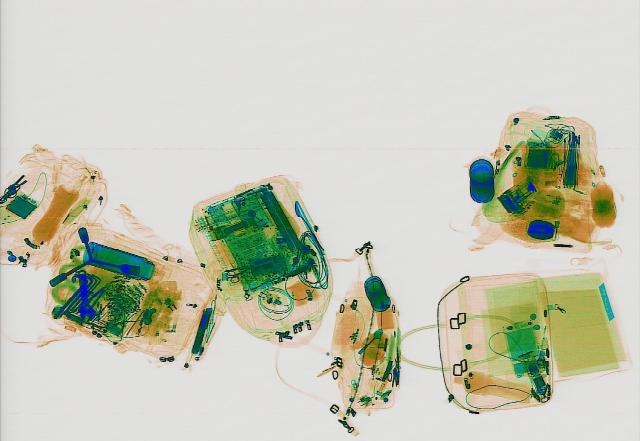Scissors: (220, 262, 258, 282)
Wrench: (70, 268, 98, 322)
